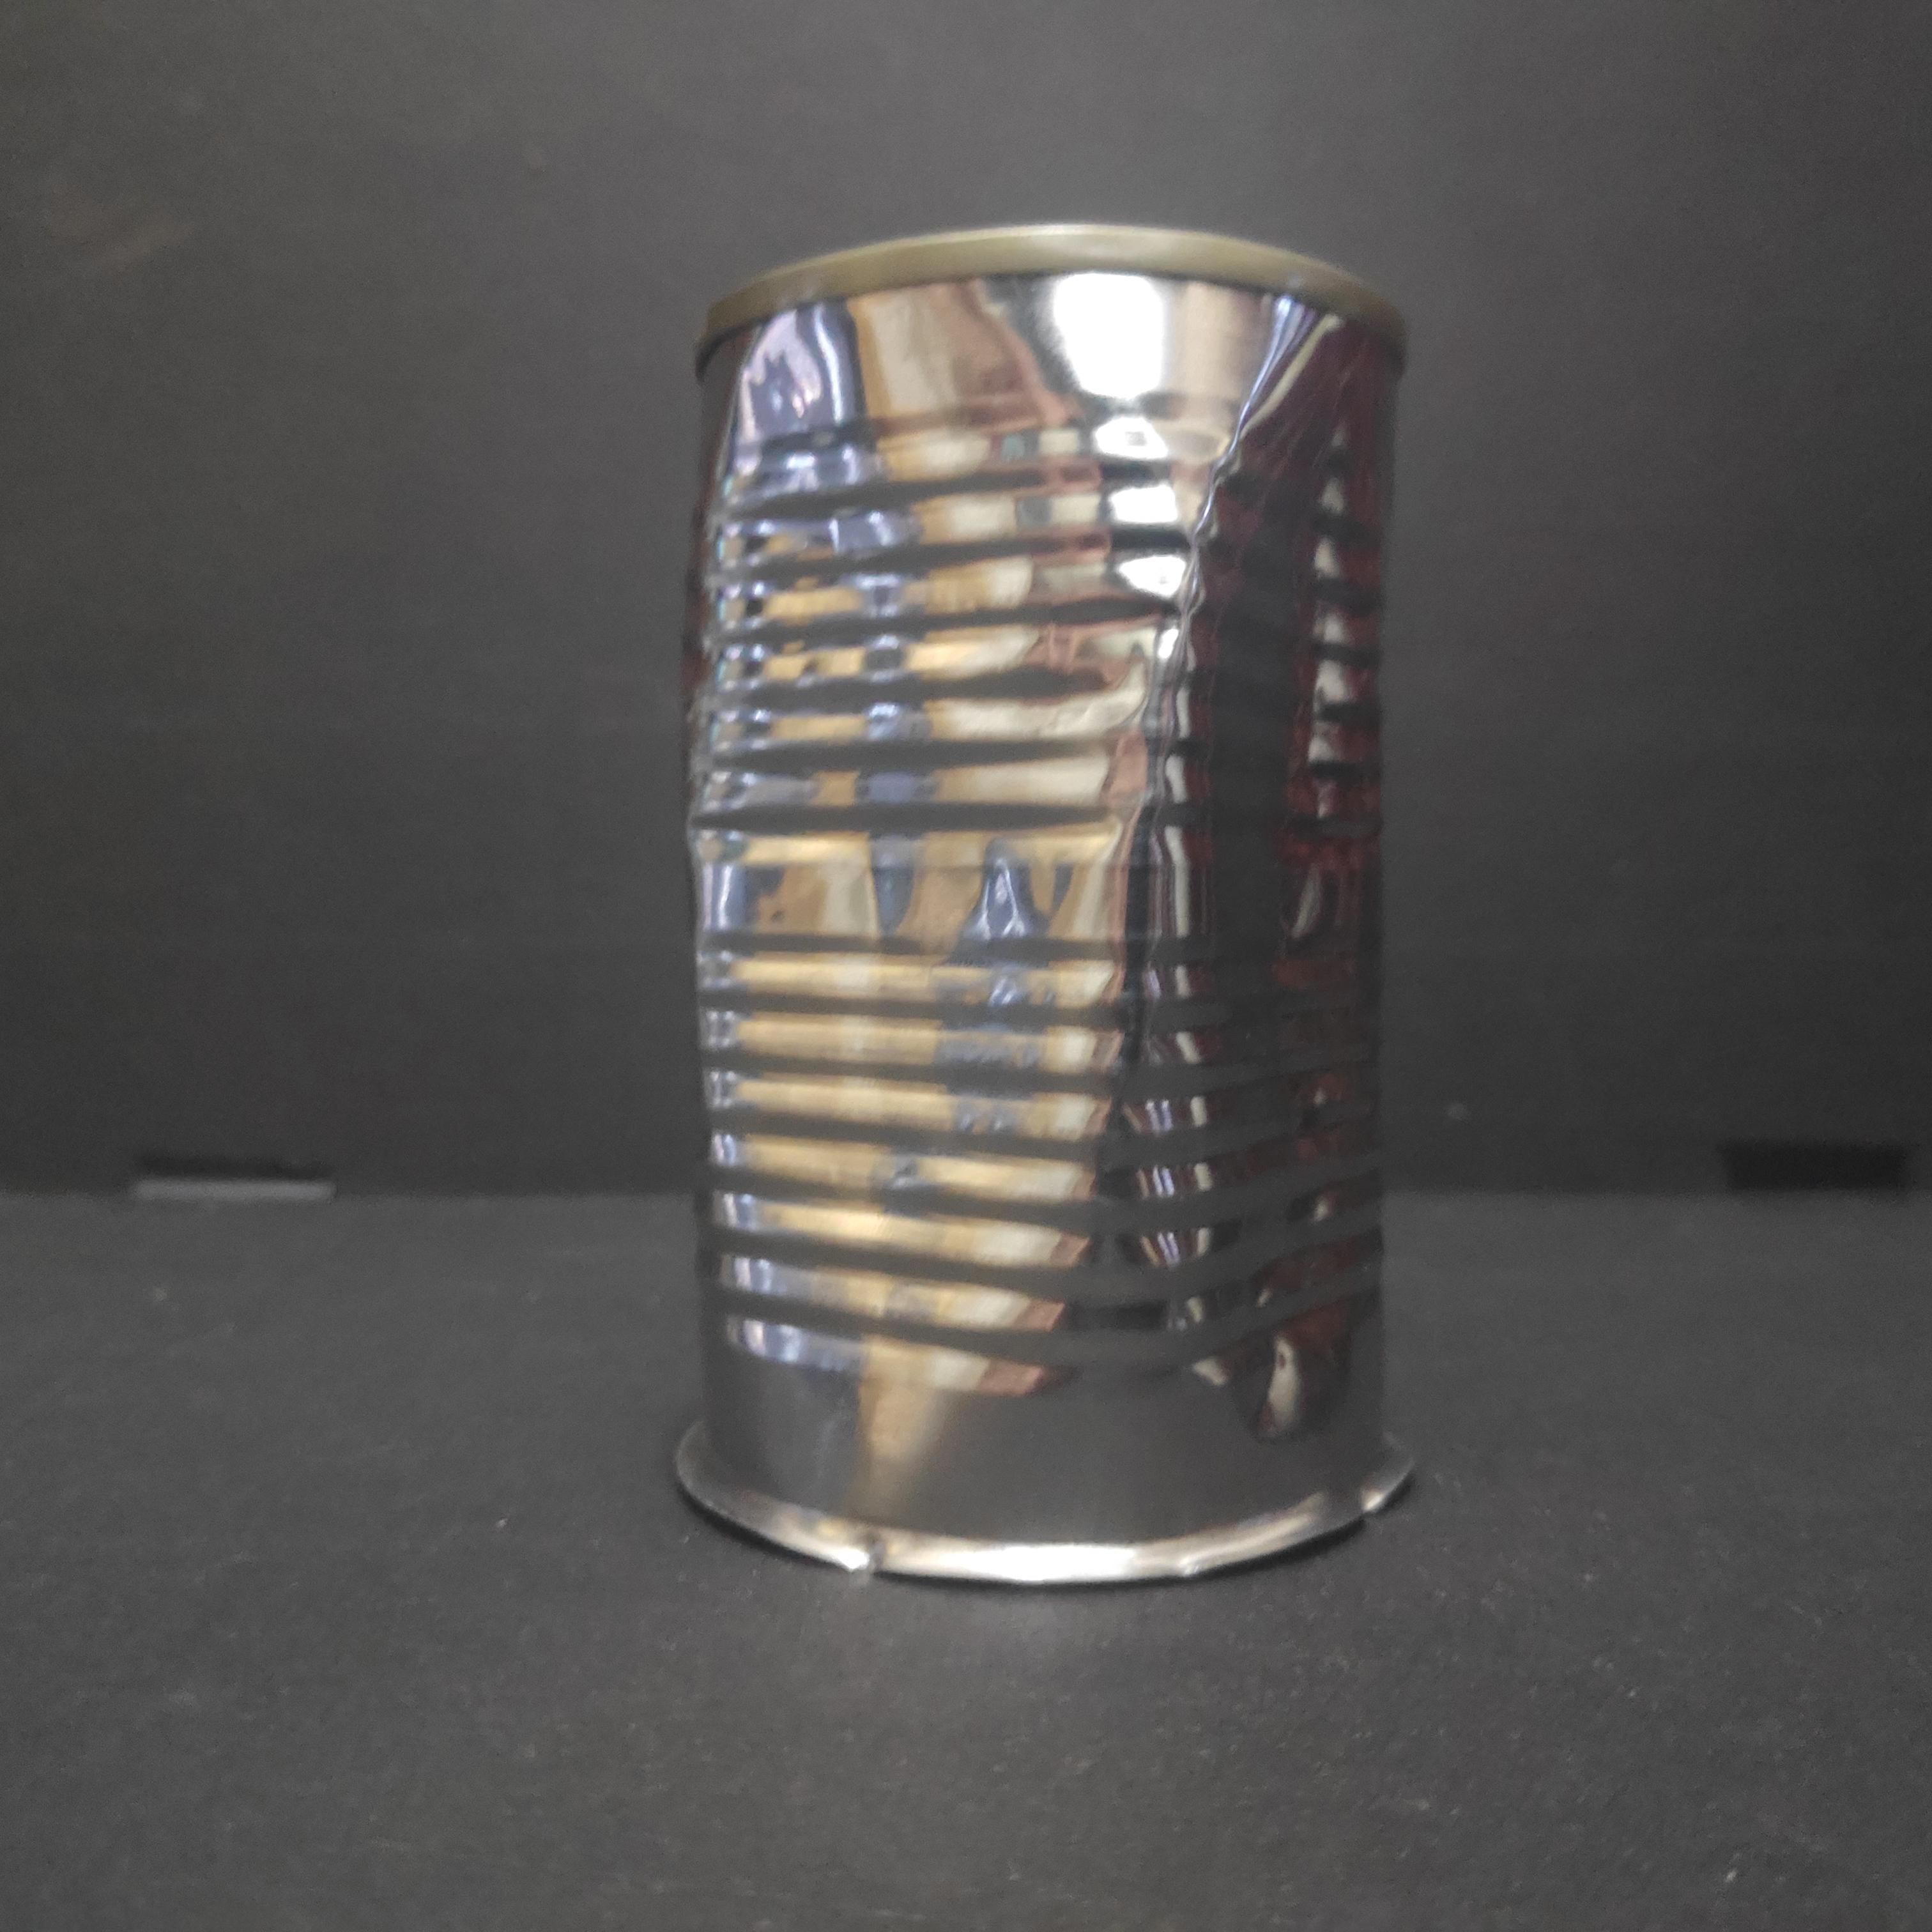Dented: (655, 198, 1431, 1594)
